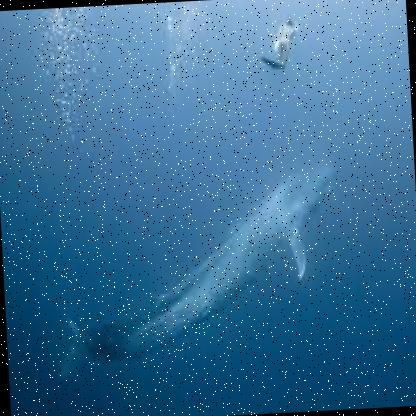blue_whale: (48, 128, 361, 390)
